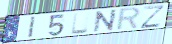5: (47, 13, 67, 37)
I: (28, 15, 38, 39)
L: (70, 12, 89, 36)
N: (93, 8, 119, 33)
R: (115, 6, 142, 31)
Z: (139, 3, 167, 29)
